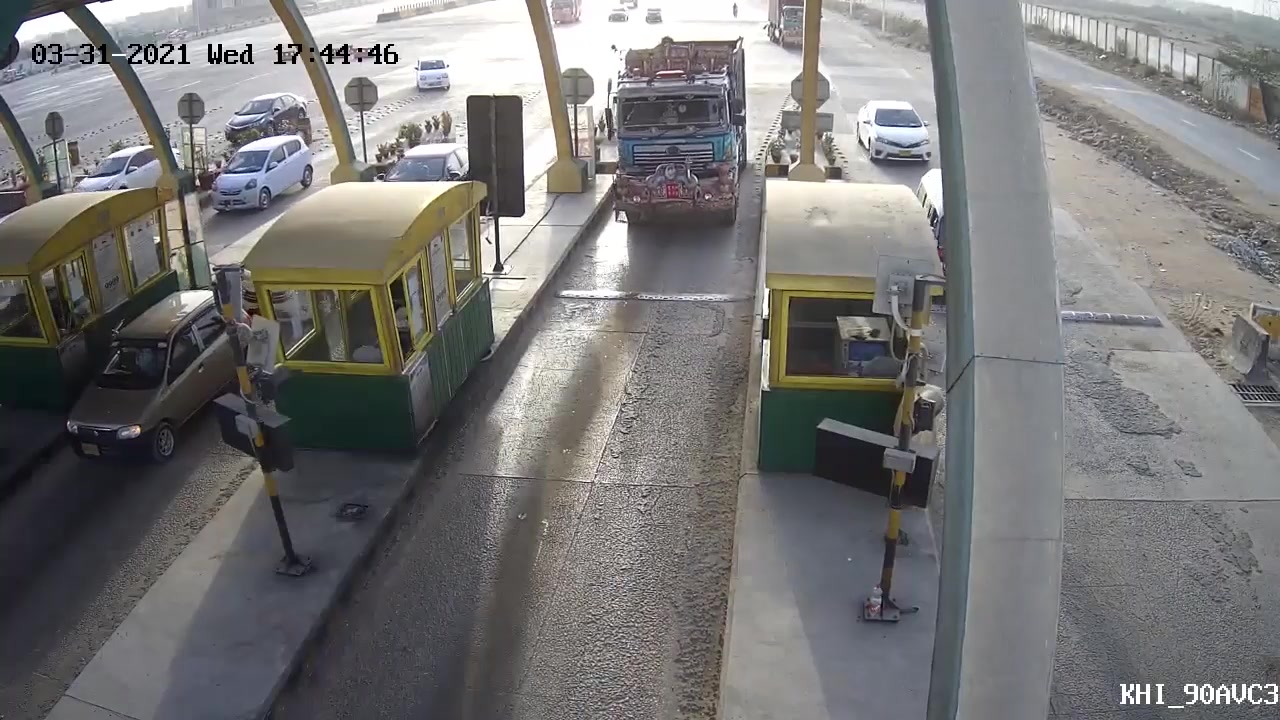F5: (591, 33, 751, 264)
